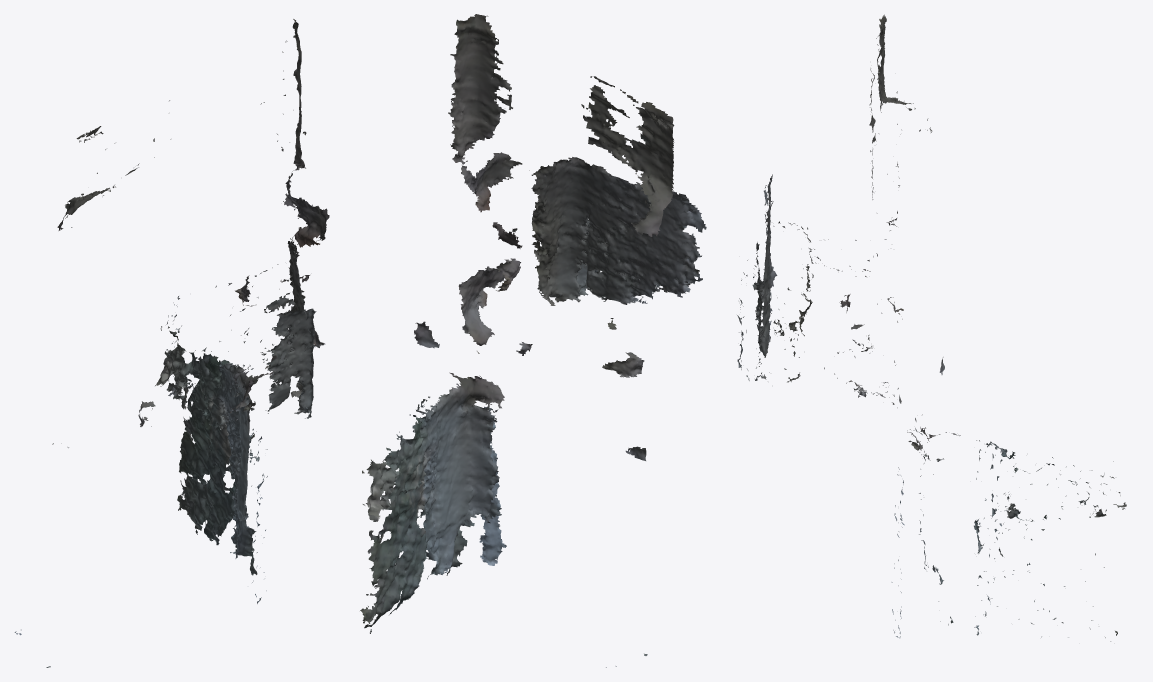
Rendered from apartment-full-127-987775a66242.glb.
The picture shows the model from 3 angles, left to right: view 1: azimuth 30°, elevation 25°; view 2: azimuth 150°, elevation 25°; view 3: azimuth 270°, elevation 25°; orthographic projection. The views are drawn at different scales.
Size of the model in its own units: 1.05 by 2.38 by 1.4.
